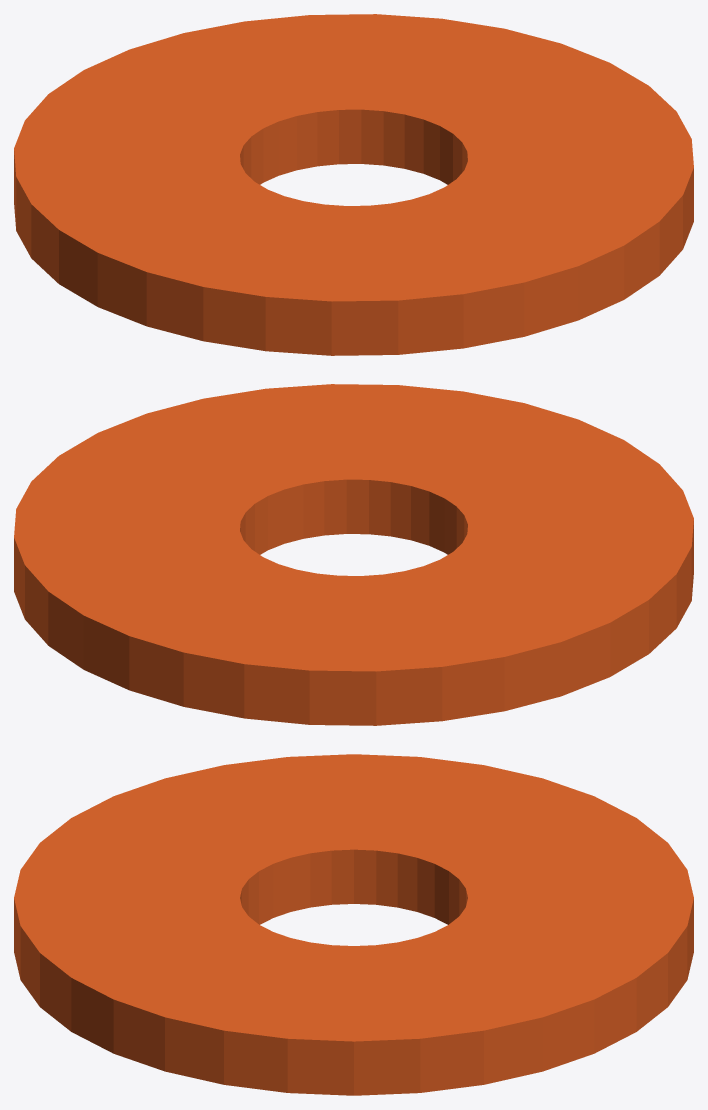
Rendered from disk.fbx.
3 renders of one model, top to bottom at view 1: azimuth 30°, elevation 25°; view 2: azimuth 150°, elevation 25°; view 3: azimuth 270°, elevation 25°, orthographic.
Parts seen in each view (by area): view 1: Cylinder; view 2: Cylinder; view 3: Cylinder.
Boxes of the visible parts, left/top/right/bottom form: Cylinder: left=14, top=14, right=693, bottom=355; Cylinder: left=14, top=384, right=693, bottom=725; Cylinder: left=14, top=754, right=693, bottom=1095.
Bounding box in the file's own units: 200 × 17.61 × 200.
